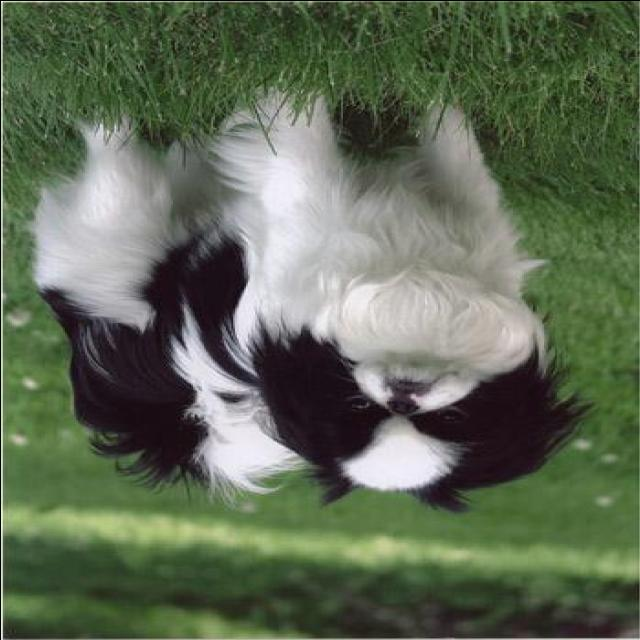husky: (28, 102, 584, 516)
